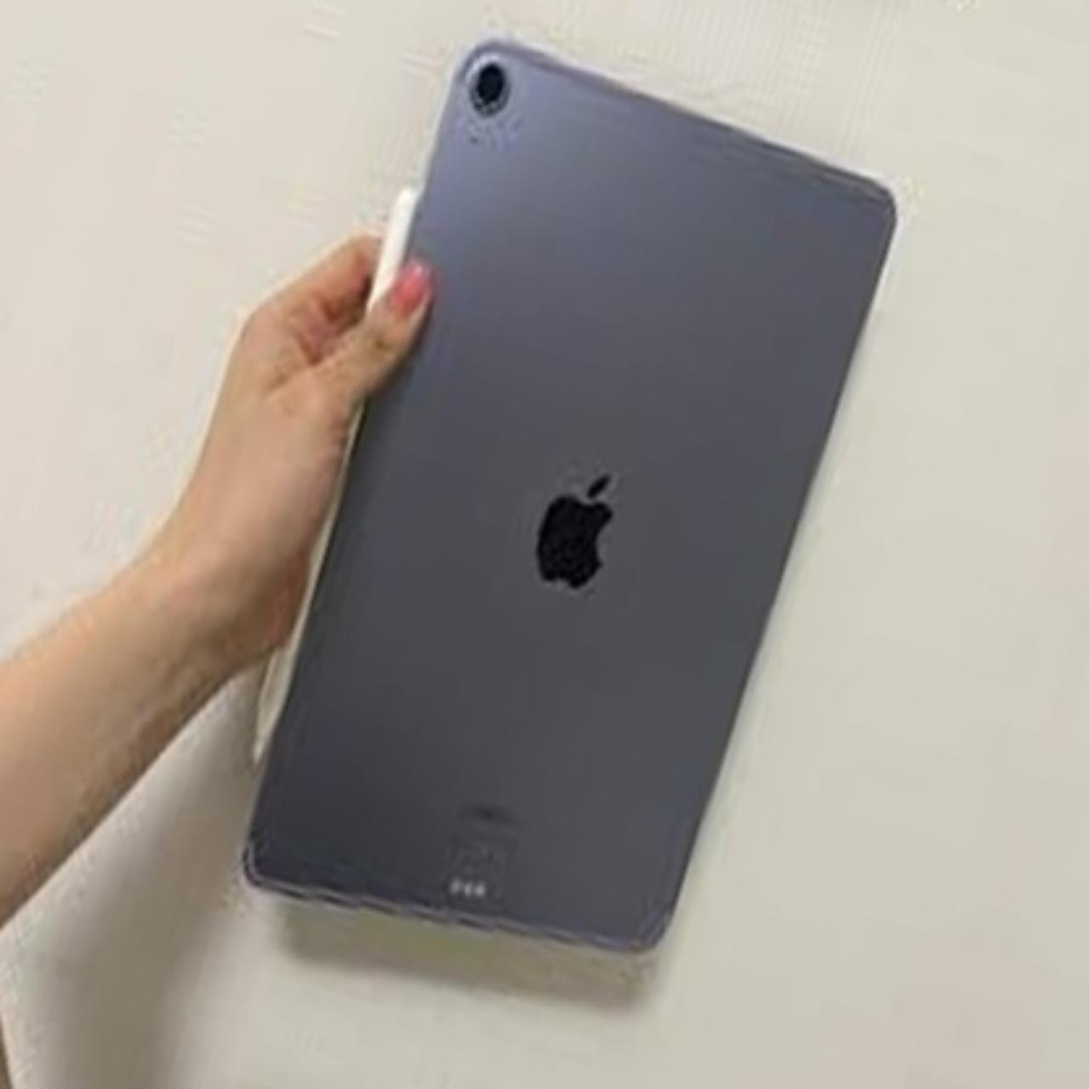Tablet_PC: (170, 0, 958, 1041)
